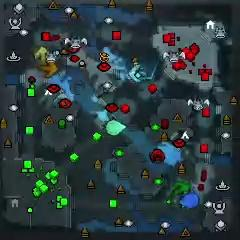p1: (178, 193, 199, 208)
p2: (106, 119, 127, 136)
x2: (34, 46, 50, 63)
x3: (130, 65, 146, 82)
x4: (171, 179, 190, 197)
x5: (38, 61, 58, 78)
